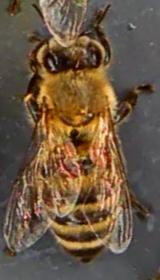varroa_mite: (85, 143, 115, 166)
